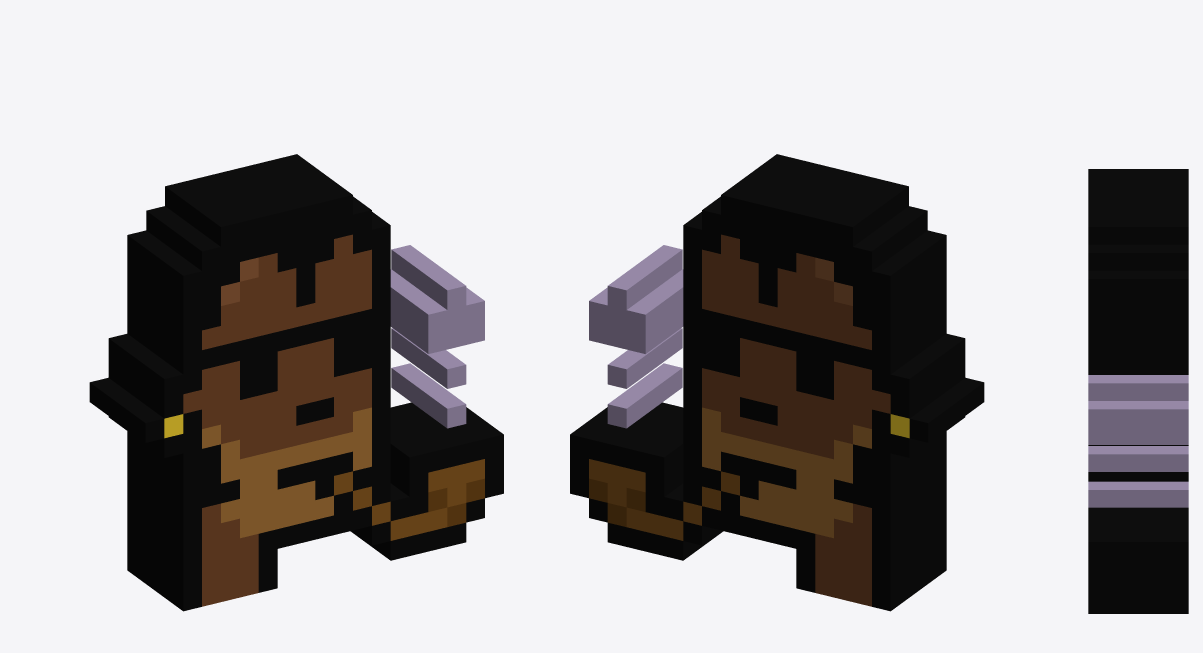
Rendered from ARPunk3011.glb.
3 renders of one model, left to right at view 1: azimuth 30°, elevation 25°; view 2: azimuth 150°, elevation 25°; view 3: azimuth 270°, elevation 25°, orthographic. The views are drawn at different scales.
Visible parts, largest first — view 1: Mesh_167.019, Mesh_266.019, Mesh_311.019, Mesh_226.019, Mesh_391.019, Mesh_436.019, Mesh_411.019, Mesh_281.019, Mesh_215.019, Mesh_242.019, Mesh_127.019, Mesh_103.019 (+22 smaller); view 2: Mesh_167.019, Mesh_266.019, Mesh_311.019, Mesh_226.019, Mesh_391.019, Mesh_436.019, Mesh_411.019, Mesh_281.019, Mesh_215.019, Mesh_242.019, Mesh_127.019, Mesh_103.019 (+22 smaller); view 3: Mesh_112.019, Mesh_167.019, Mesh_399.019, Mesh_429.019, Mesh_450.019, Mesh_215.019, Mesh_283.019, Mesh_311.019, Mesh_351.019, Mesh_64.019, Mesh_88.019, Mesh_259.019 (+18 smaller).
Part boxes in pixels (box(x1,y1,x2,y2)): Mesh_167.019: box(391, 363, 466, 428); Mesh_266.019: box(108, 333, 183, 398); Mesh_311.019: box(391, 245, 466, 309); Mesh_226.019: box(89, 377, 164, 442); Mesh_391.019: box(127, 230, 201, 295); Mesh_436.019: box(165, 181, 239, 246); Mesh_411.019: box(146, 206, 220, 271); Mesh_281.019: box(390, 269, 447, 334); Mesh_215.019: box(391, 328, 466, 388); Mesh_242.019: box(108, 358, 183, 418); Mesh_127.019: box(127, 452, 201, 512); Mesh_103.019: box(127, 472, 201, 532); Mesh_167.019: box(607, 363, 682, 428); Mesh_266.019: box(890, 333, 965, 398); Mesh_311.019: box(607, 245, 682, 309); Mesh_226.019: box(909, 377, 984, 442); Mesh_391.019: box(872, 230, 946, 295); Mesh_436.019: box(834, 181, 908, 246); Mesh_411.019: box(853, 206, 927, 271); Mesh_281.019: box(626, 269, 683, 334); Mesh_215.019: box(607, 328, 682, 388); Mesh_242.019: box(890, 358, 965, 418); Mesh_127.019: box(872, 452, 946, 512); Mesh_103.019: box(872, 472, 946, 532); Mesh_112.019: box(1088, 533, 1188, 559); Mesh_167.019: box(1088, 481, 1188, 507); Mesh_399.019: box(1088, 270, 1188, 296); Mesh_429.019: box(1088, 244, 1188, 270); Mesh_450.019: box(1088, 218, 1188, 244); Mesh_215.019: box(1088, 446, 1188, 471); Mesh_283.019: box(1088, 401, 1188, 426); Mesh_311.019: box(1088, 375, 1188, 400); Mesh_351.019: box(1088, 314, 1188, 332); Mesh_64.019: box(1088, 577, 1188, 595); Mesh_88.019: box(1088, 559, 1188, 577); Mesh_259.019: box(1088, 427, 1188, 444).
Bounding box in the file's own units: 24 × 24 × 5.13.
Materials: 1 (1 with a texture image).
